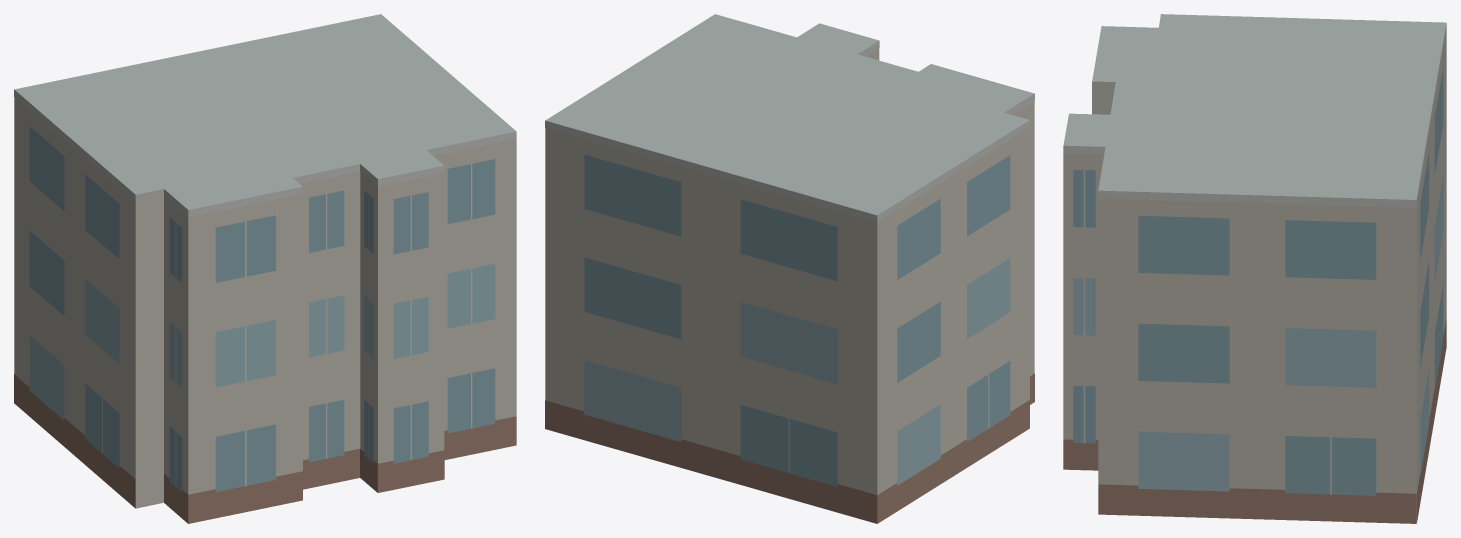
Rendered from survey-upis-32799657.glb.
3 renders of one model, left to right at view 1: azimuth 30°, elevation 25°; view 2: azimuth 150°, elevation 25°; view 3: azimuth 270°, elevation 25°, orthographic. The views are drawn at different scales.
Parts seen in each view (by area): view 1: survey-upis-32799657.tmp; view 2: survey-upis-32799657.tmp; view 3: survey-upis-32799657.tmp.
Boxes of the visible parts, x1,y1,x2,y2 form: survey-upis-32799657.tmp: (14,14,516,523); survey-upis-32799657.tmp: (545,14,1034,523); survey-upis-32799657.tmp: (1063,14,1446,523).
Bounding box in the file's own units: 12.57 × 10.2 × 10.95.
